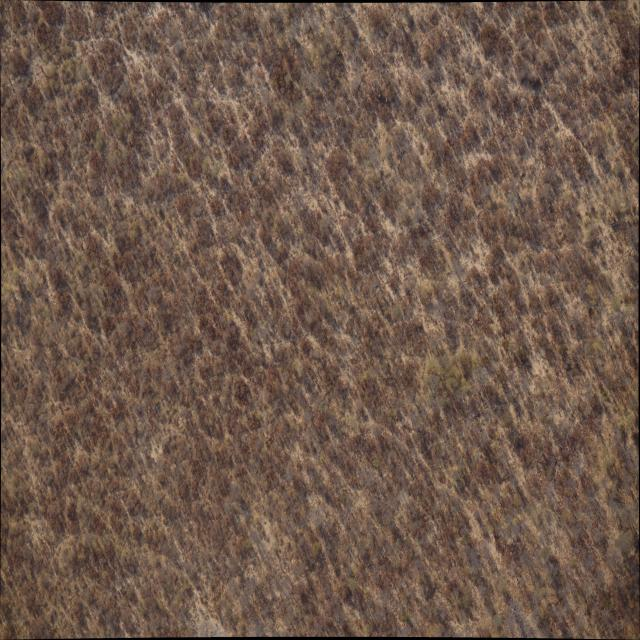elephant: (610, 220, 616, 226), (516, 191, 520, 198), (338, 50, 341, 56), (379, 91, 381, 100), (549, 201, 551, 209), (386, 96, 388, 102)
